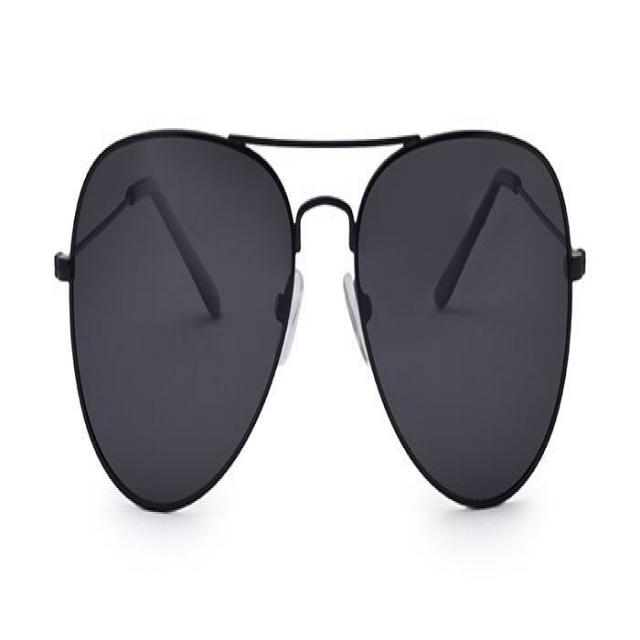suspicious-objects: (47, 97, 583, 517)
